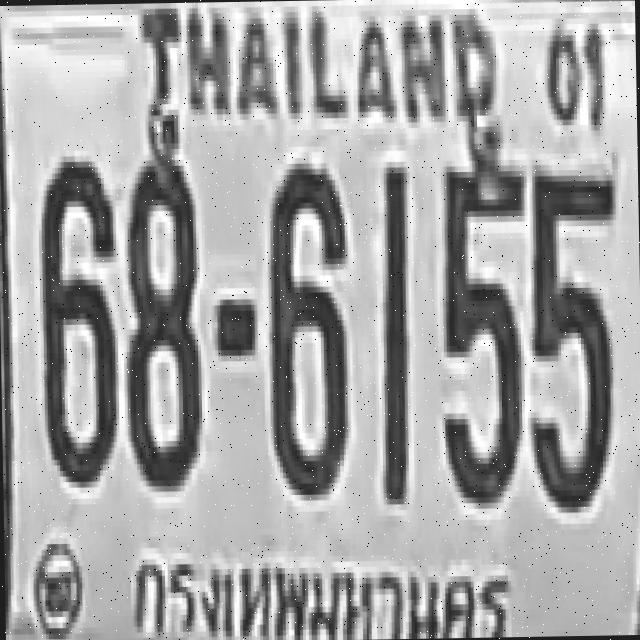1: (378, 161, 408, 498)
5: (524, 160, 620, 510), (437, 145, 529, 500)
6: (266, 160, 346, 492), (38, 155, 116, 482)
8: (122, 142, 198, 486)
Bangkok: (125, 523, 522, 640)
